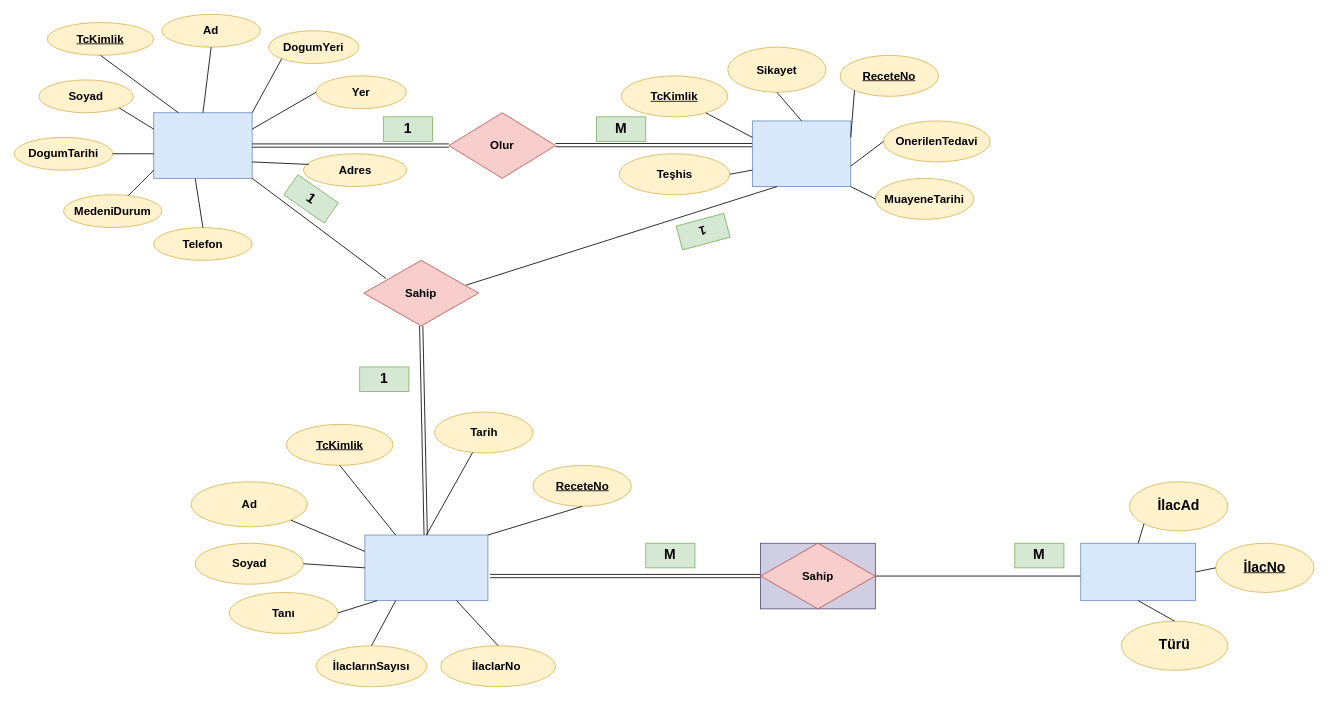
Image size: 1328x701. Some labels were removed from this diagram. Each missing label, with the box of its shape:
HastaBilgileri: (153, 112, 252, 178)
İlacBilgileri: (1080, 542, 1196, 601)
MuayeneBilgileri: (752, 120, 851, 187)
Recete: (364, 534, 488, 601)
